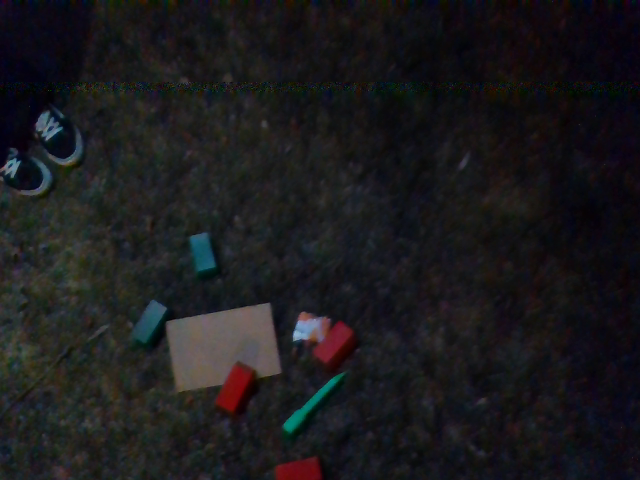Probe: (276, 369, 352, 438)
